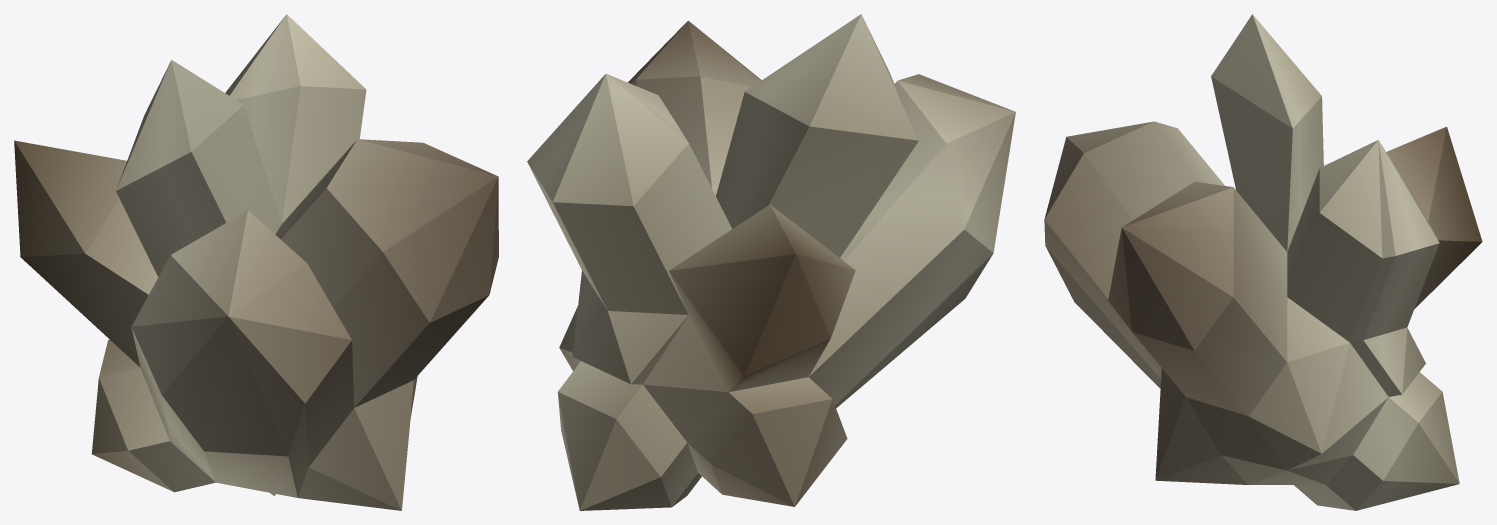
The model's file is Quartz.fbx.
The picture shows the model from 3 angles, left to right: view 1: azimuth 30°, elevation 25°; view 2: azimuth 150°, elevation 25°; view 3: azimuth 270°, elevation 25°; orthographic projection. The views are drawn at different scales.
Parts seen in each view (by area): view 1: QUARTZ.001; view 2: QUARTZ.001; view 3: QUARTZ.001.
Part boxes in pixels (x1,y1,x2,y2): QUARTZ.001: [14, 14, 498, 510]; QUARTZ.001: [527, 14, 1015, 510]; QUARTZ.001: [1044, 14, 1482, 510].
Bounding box in the file's own units: 156 × 203 × 187.
Materials: 1 (1 with a texture image).
